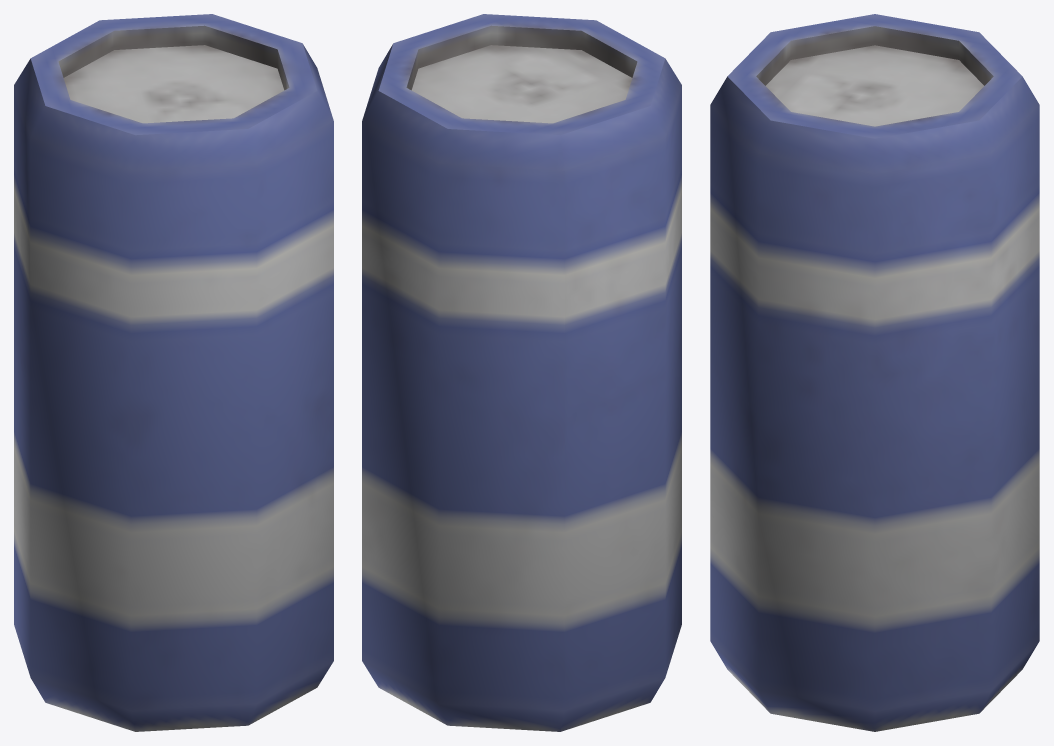
Rendered from SM_Props_Food_06.glb.
3 views of the same model, side by side, from view 1: azimuth 30°, elevation 25°; view 2: azimuth 150°, elevation 25°; view 3: azimuth 270°, elevation 25° (orthographic).
Visible parts, largest first — view 1: SM_Props_Food_06; view 2: SM_Props_Food_06; view 3: SM_Props_Food_06.
Boxes of the visible parts, x1,y1,x2,y2 form: SM_Props_Food_06: (14,14,333,731); SM_Props_Food_06: (362,14,681,731); SM_Props_Food_06: (710,14,1039,731).
Size of the model in its own units: 0.0809 by 0.1609 by 0.0809.
1 material, 1 textured.
